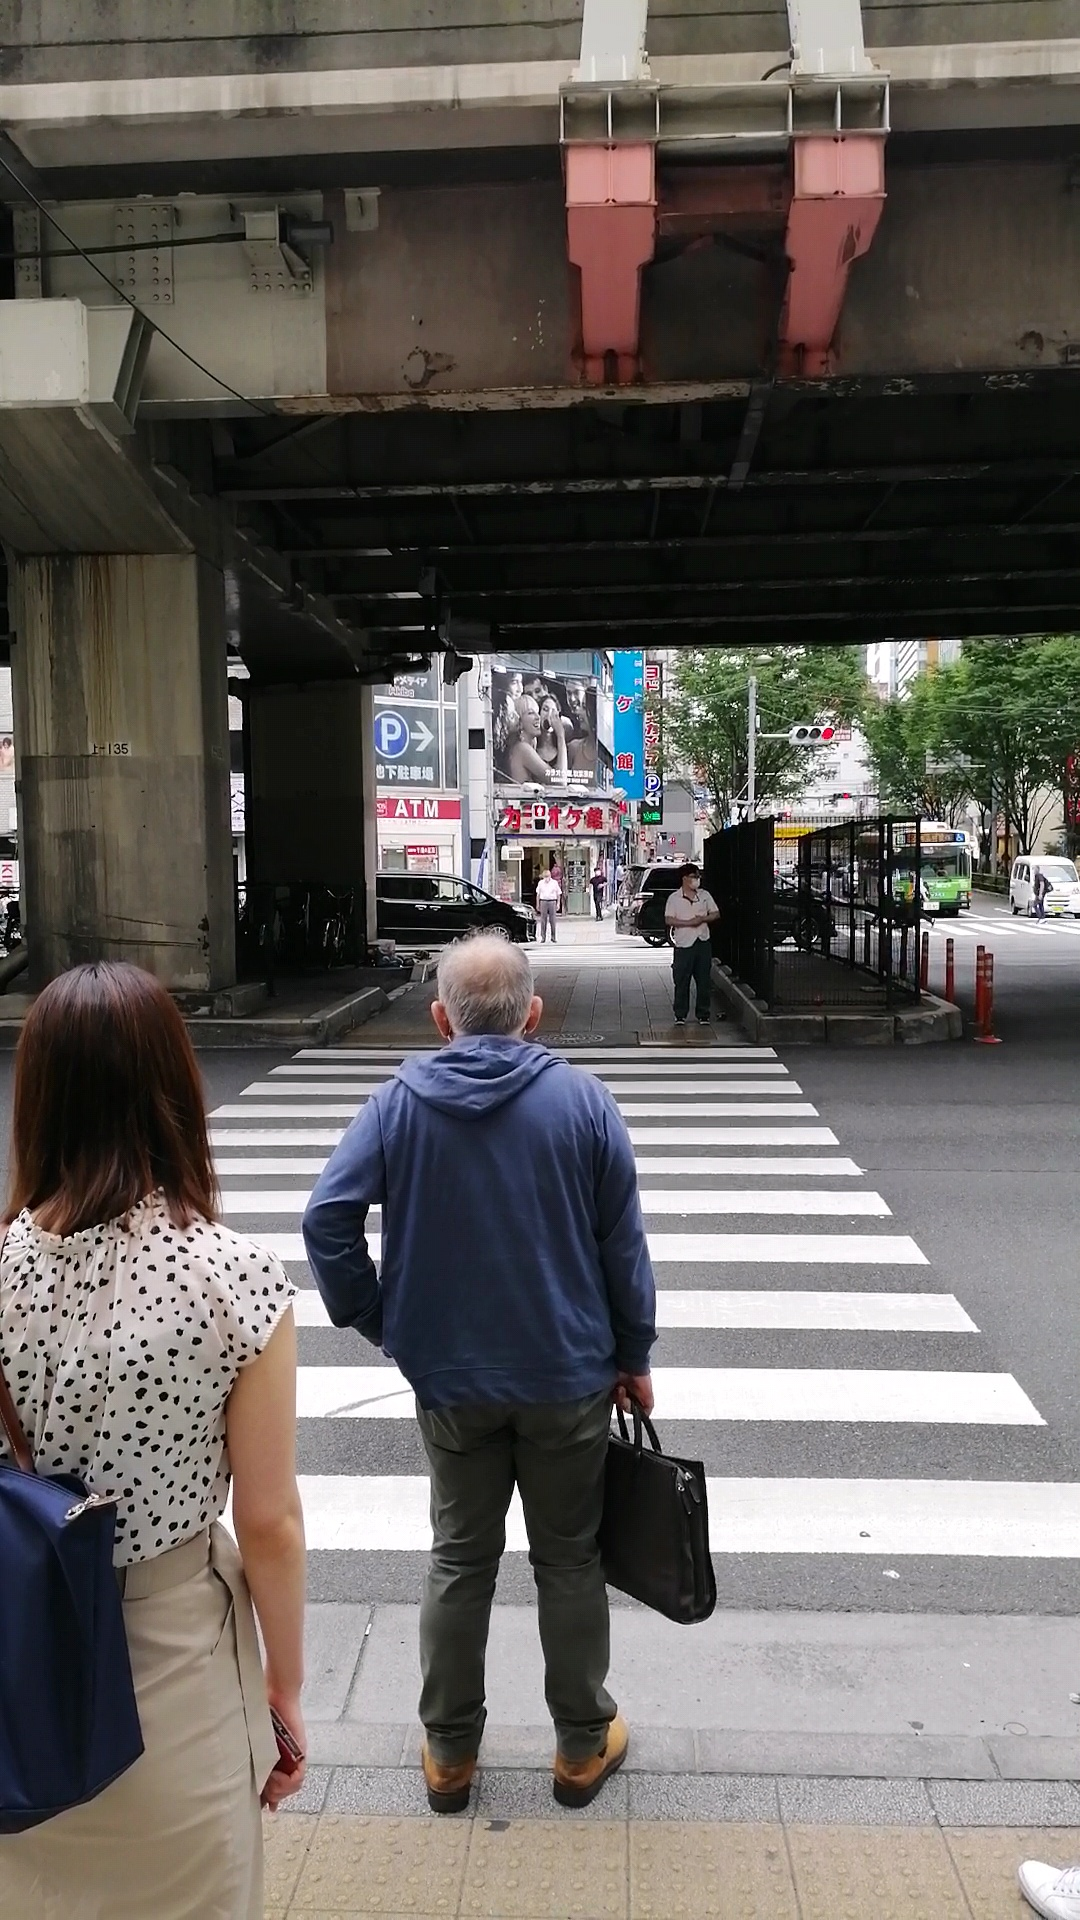red: (531, 802, 545, 832)
